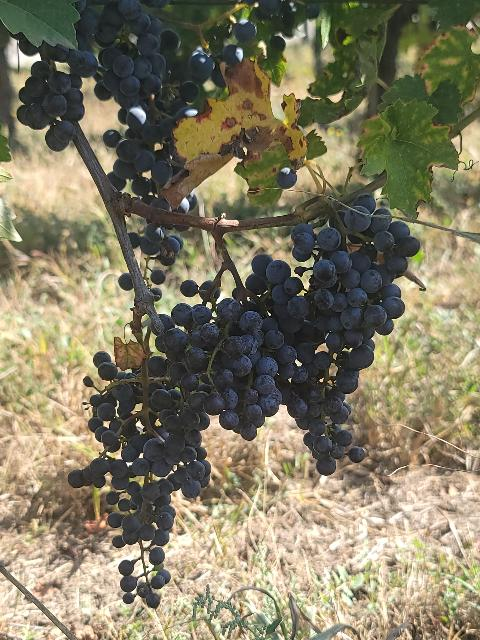grapes: (264, 194, 420, 474), (69, 346, 211, 609), (76, 0, 224, 210), (148, 299, 296, 440), (18, 38, 99, 151), (138, 224, 181, 265)
